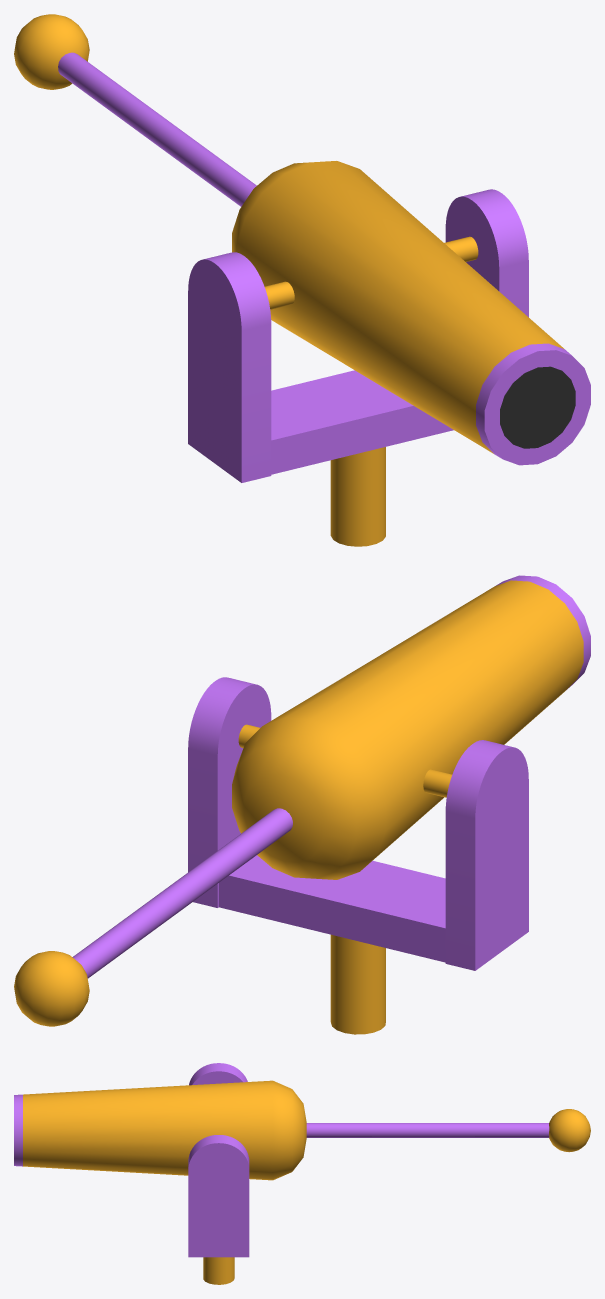
The model's file is Gun A.fbx.
3 renders of one model, top to bottom at view 1: azimuth 30°, elevation 25°; view 2: azimuth 150°, elevation 25°; view 3: azimuth 270°, elevation 25°, orthographic. The views are drawn at different scales.
Parts seen in each view (by area): view 1: Gun A.001, Gun A.003, Gun A.002; view 2: Gun A.001, Gun A.003, Gun A.002; view 3: Gun A.001, Gun A.003, Gun A.002.
Part boxes in pixels (bbox=[...]): Gun A.001: bbox=[232, 161, 590, 465]; Gun A.003: bbox=[188, 189, 528, 546]; Gun A.002: bbox=[14, 14, 256, 206]; Gun A.001: bbox=[232, 575, 590, 879]; Gun A.003: bbox=[188, 677, 528, 1034]; Gun A.002: bbox=[14, 808, 292, 1026]; Gun A.001: bbox=[14, 1080, 306, 1180]; Gun A.003: bbox=[188, 1063, 249, 1284]; Gun A.002: bbox=[306, 1109, 590, 1152].
Size of the model in its own units: 238 by 268 by 726.
